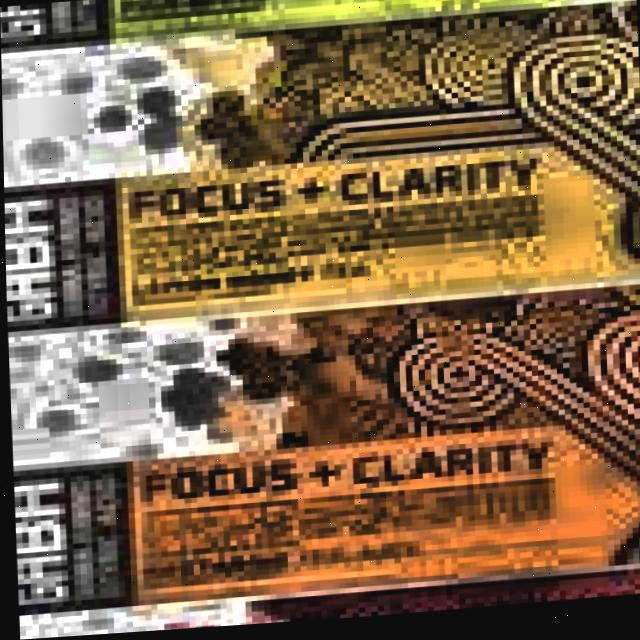metal: (1, 0, 640, 341), (6, 286, 640, 625)
